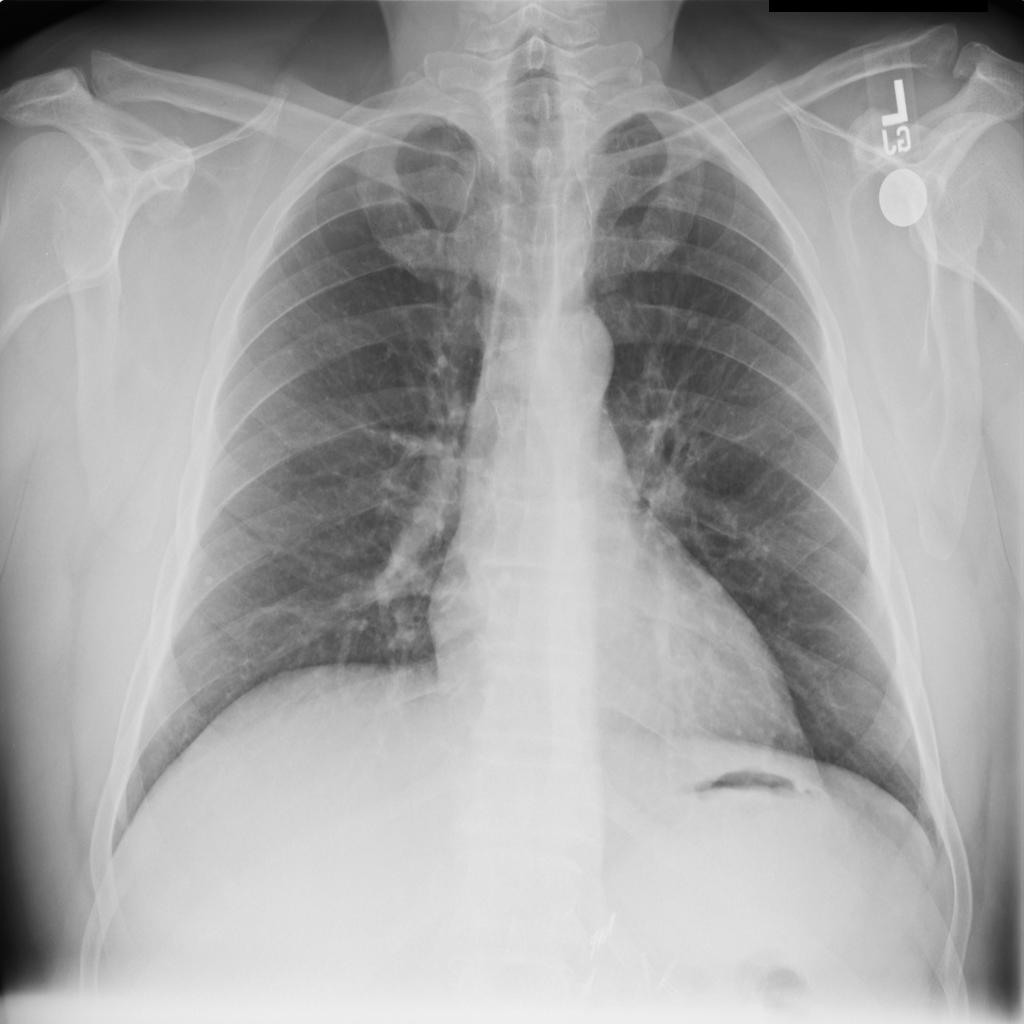nodule: (185, 555, 232, 607)
